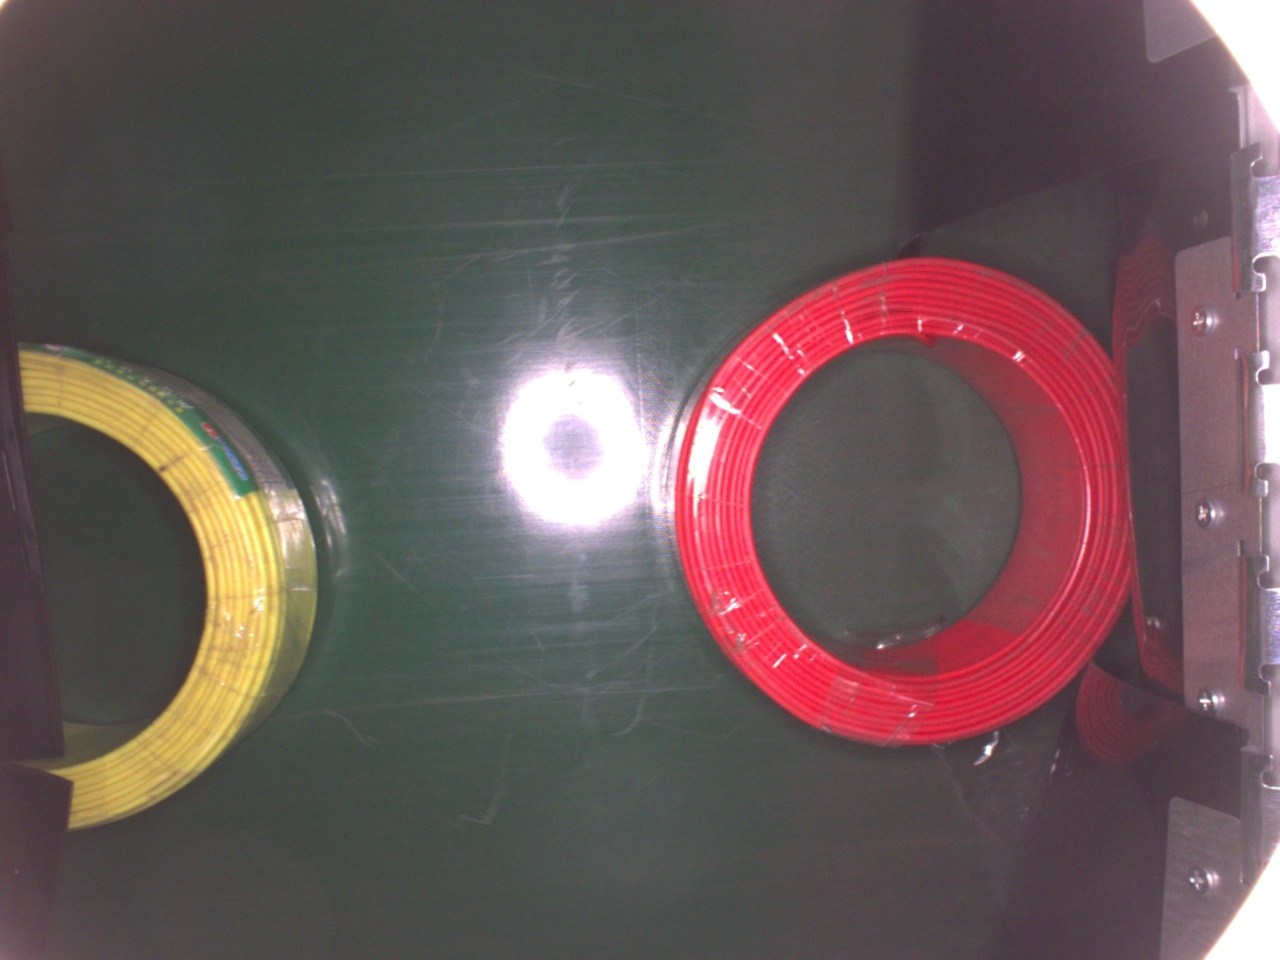red: (666, 257, 1129, 744)
yellow: (11, 330, 318, 823)
